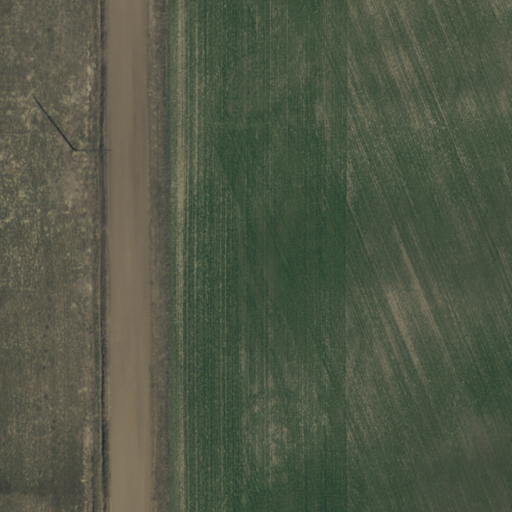DT: (68, 135, 116, 167)
